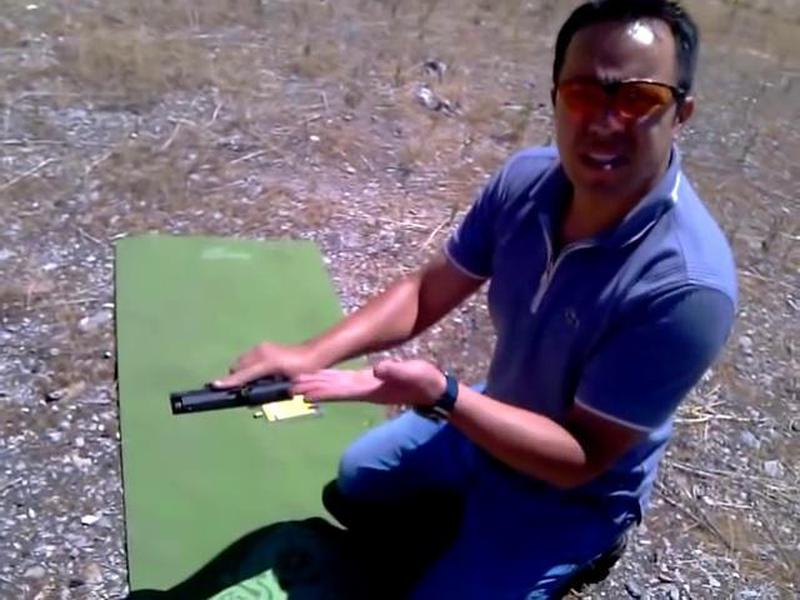Pistola: (159, 348, 320, 441)
